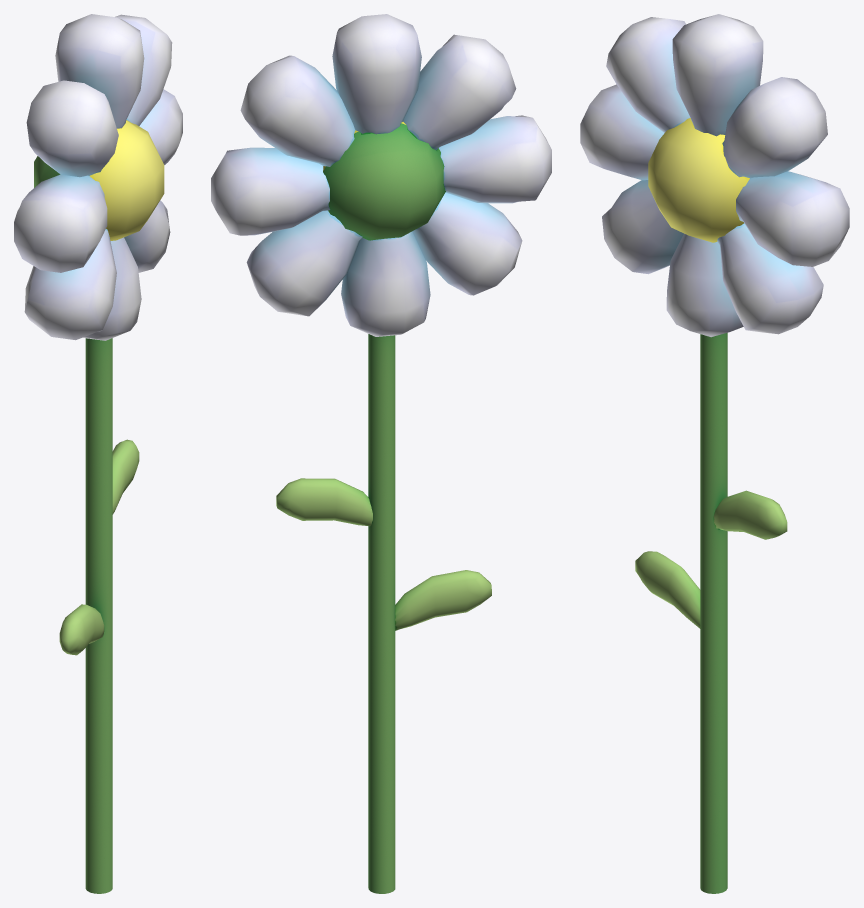
The model's file is Flower_Stick.fbx.
3 renders of one model, left to right at view 1: azimuth 30°, elevation 25°; view 2: azimuth 150°, elevation 25°; view 3: azimuth 270°, elevation 25°, orthographic.
Visible parts, largest first — view 1: Flower_Stick; view 2: Flower_Stick; view 3: Flower_Stick.
Part boxes in pixels (left/top/right/bottom): Flower_Stick: left=14, top=14, right=182, bottom=893; Flower_Stick: left=211, top=14, right=551, bottom=893; Flower_Stick: left=580, top=14, right=849, bottom=893.
Size of the model in its own units: 25.13 by 84.46 by 23.74.
